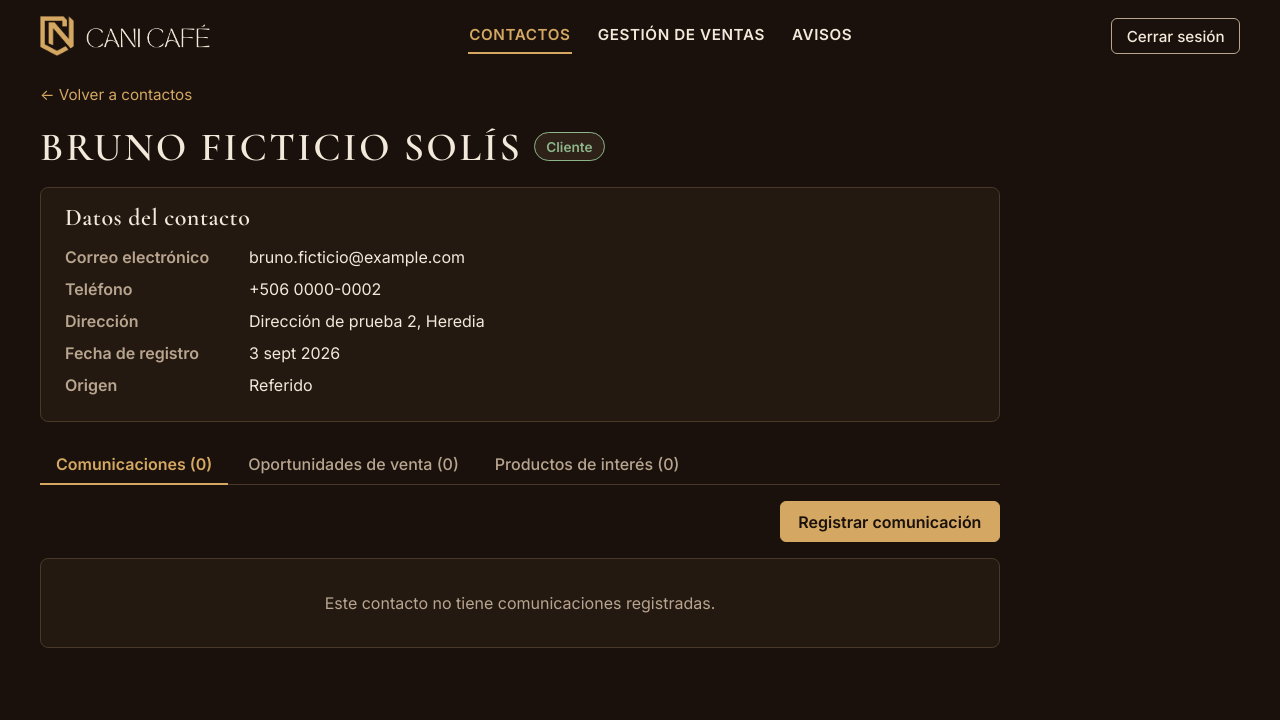
HU-207 Consultar la ficha de un contacto › pestañas sin registros: (0) y un mensaje
Expected: the tab "Comunicaciones (0)" is shown, [40, 446, 228, 485]
Expected: the text "Este contacto no tiene comunicaciones registradas." is shown, [40, 558, 1000, 648]
Click the tab "Oportunidades de venta (0)": (354, 465) [232, 446, 475, 485]
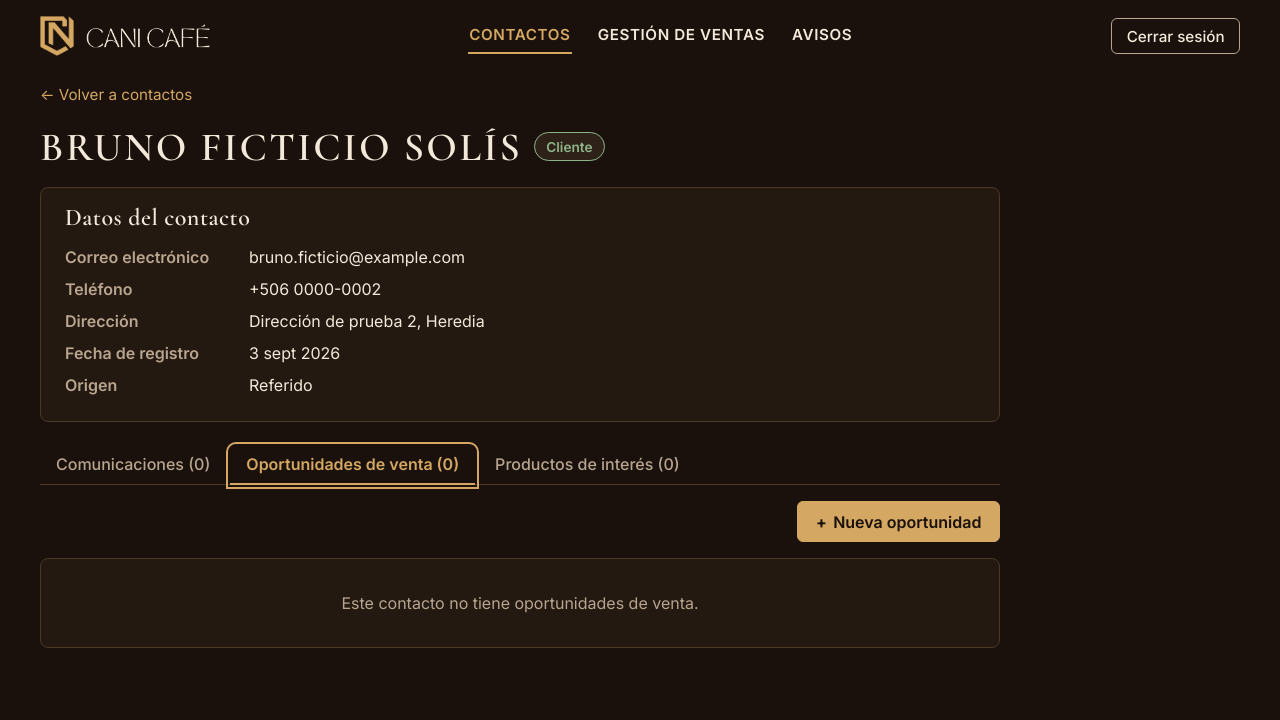
Expected: the text "Este contacto no tiene oportunidades de venta." is shown, [40, 558, 1000, 648]
Click the tab "Productos de interés (0)": (587, 465) [479, 446, 696, 485]
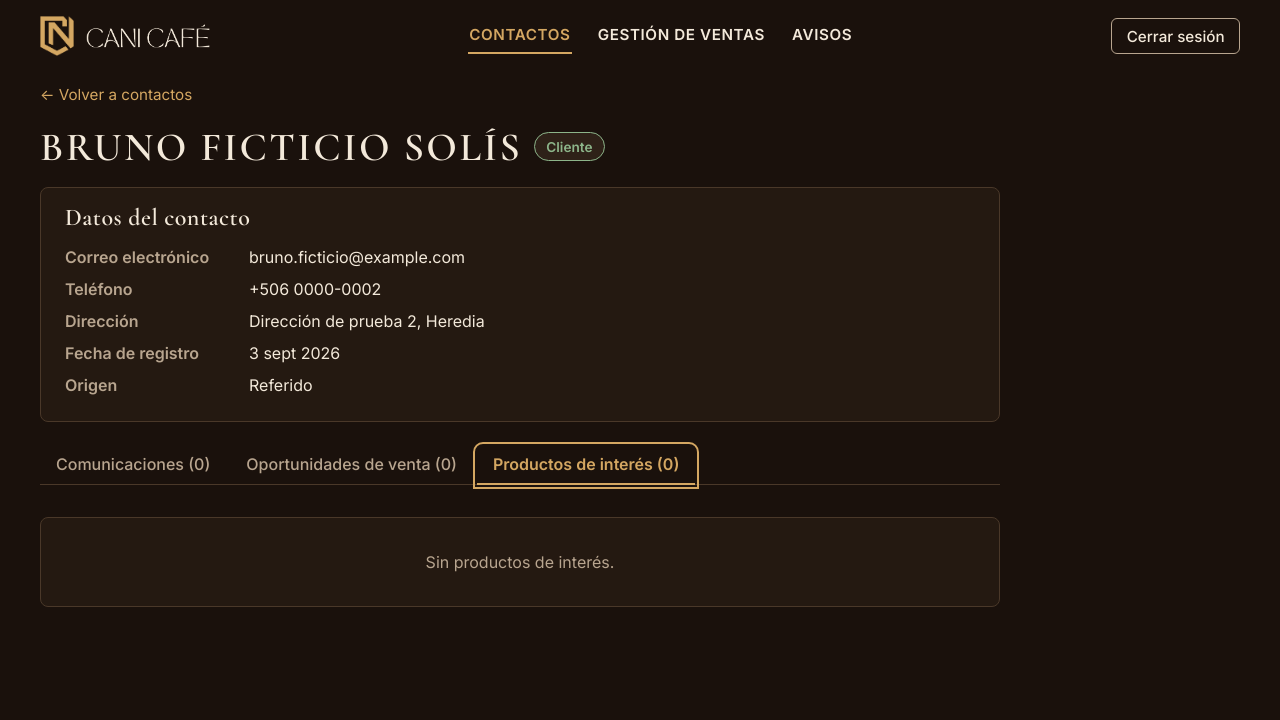
Expected: the text "Sin productos de interés." is shown, [40, 517, 1000, 607]
